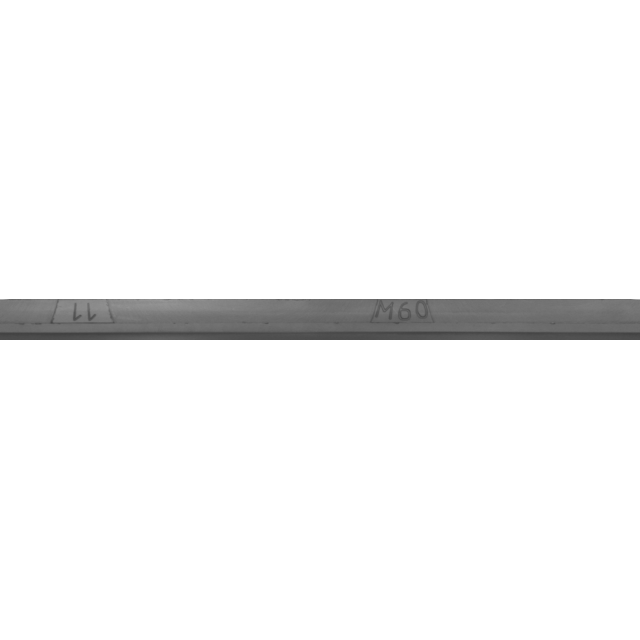mohao: (308, 270, 508, 370)
xuehao: (0, 270, 187, 370)
